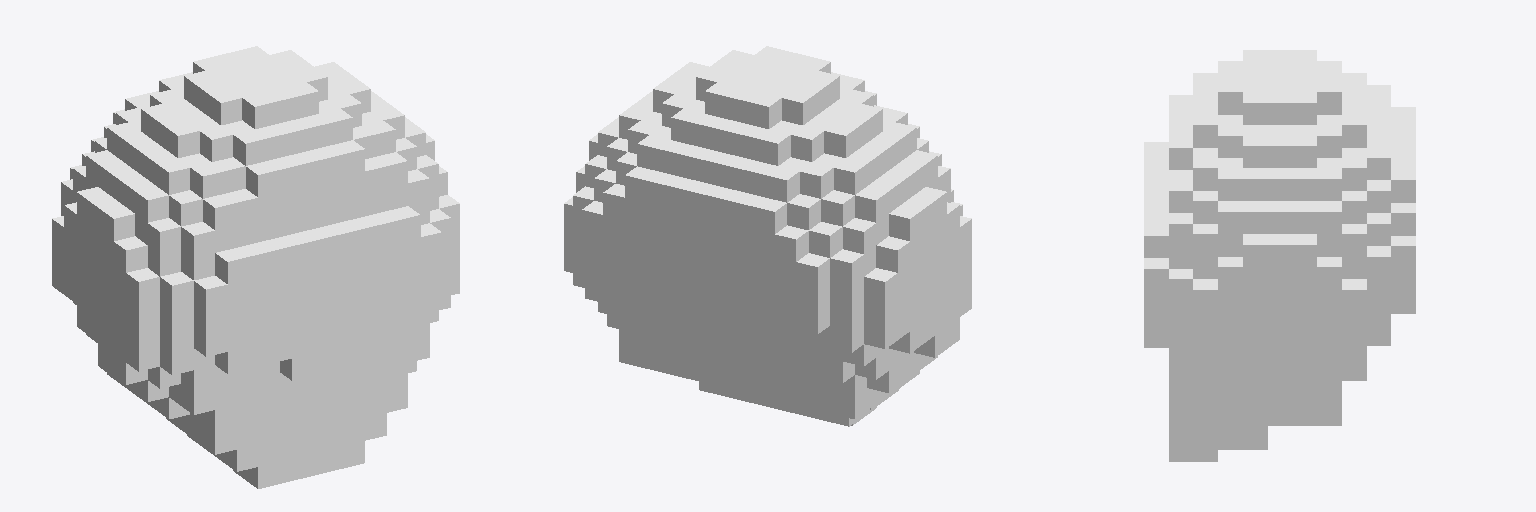
File: a792_BasicGuard_Head.obj
The picture shows the model from 3 angles: view 1: azimuth 30°, elevation 25°; view 2: azimuth 150°, elevation 25°; view 3: azimuth 270°, elevation 25°; orthographic projection.
Bounding box in the file's own units: 15 × 16 × 11.